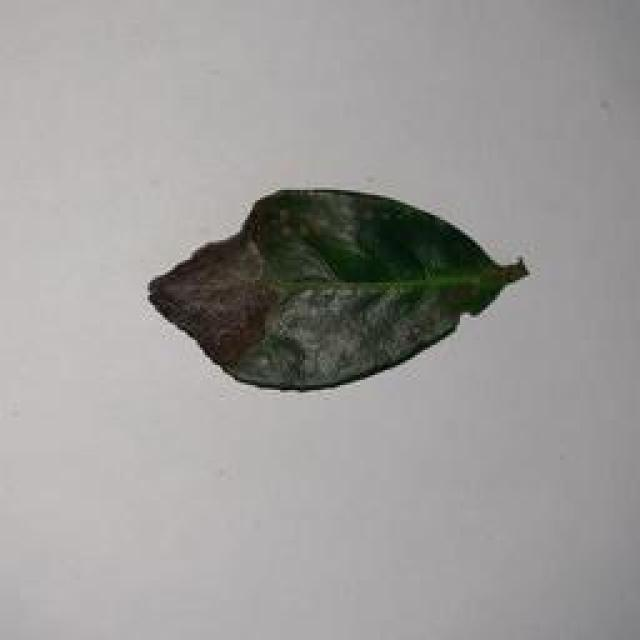Brown Blight: (142, 185, 526, 411)
